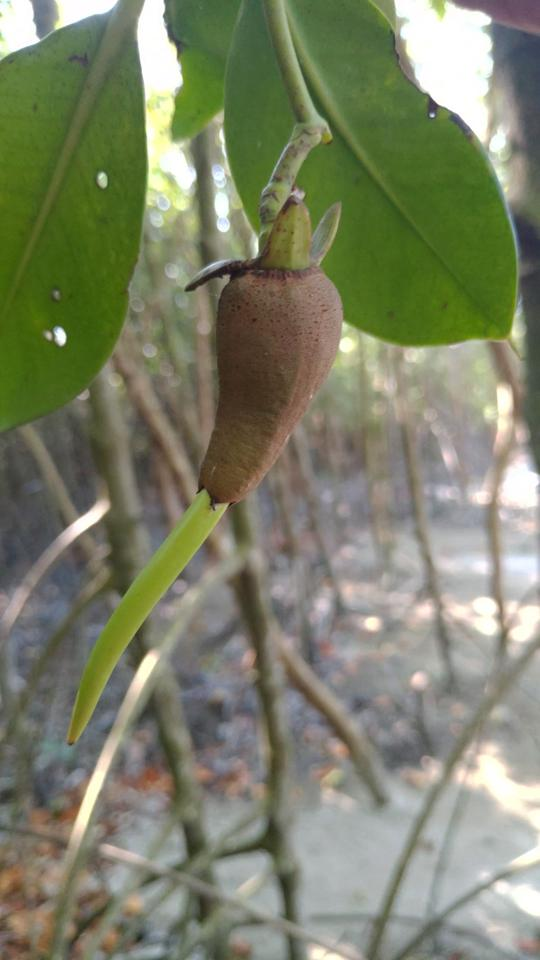mentah: (39, 185, 364, 766)
